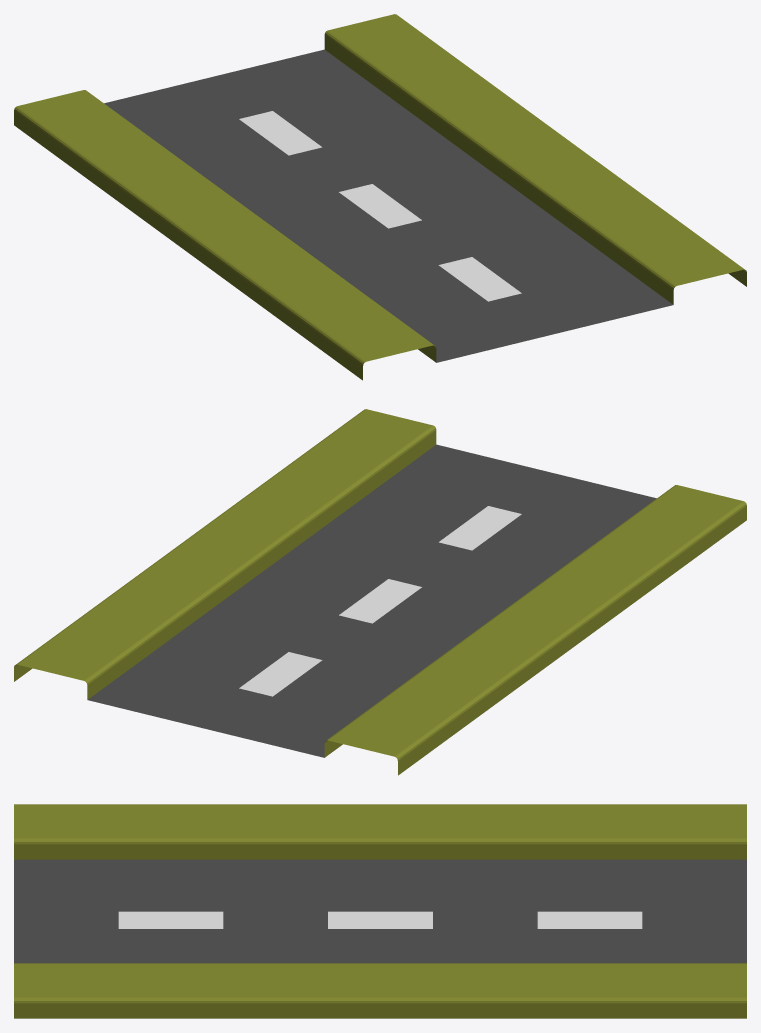
File: straight.fbx
3 views of the same model, one above another, from view 1: azimuth 30°, elevation 25°; view 2: azimuth 150°, elevation 25°; view 3: azimuth 270°, elevation 25° (orthographic). The views are drawn at different scales.
Visible parts, largest first — view 1: Plane.002; view 2: Plane.002; view 3: Plane.002.
Part boxes in pixels (<box>): Plane.002: <box>14,14,746,380</box>; Plane.002: <box>14,409,746,775</box>; Plane.002: <box>14,804,746,1018</box>.
Bounding box in the file's own units: 886 × 40.43 × 1396.
